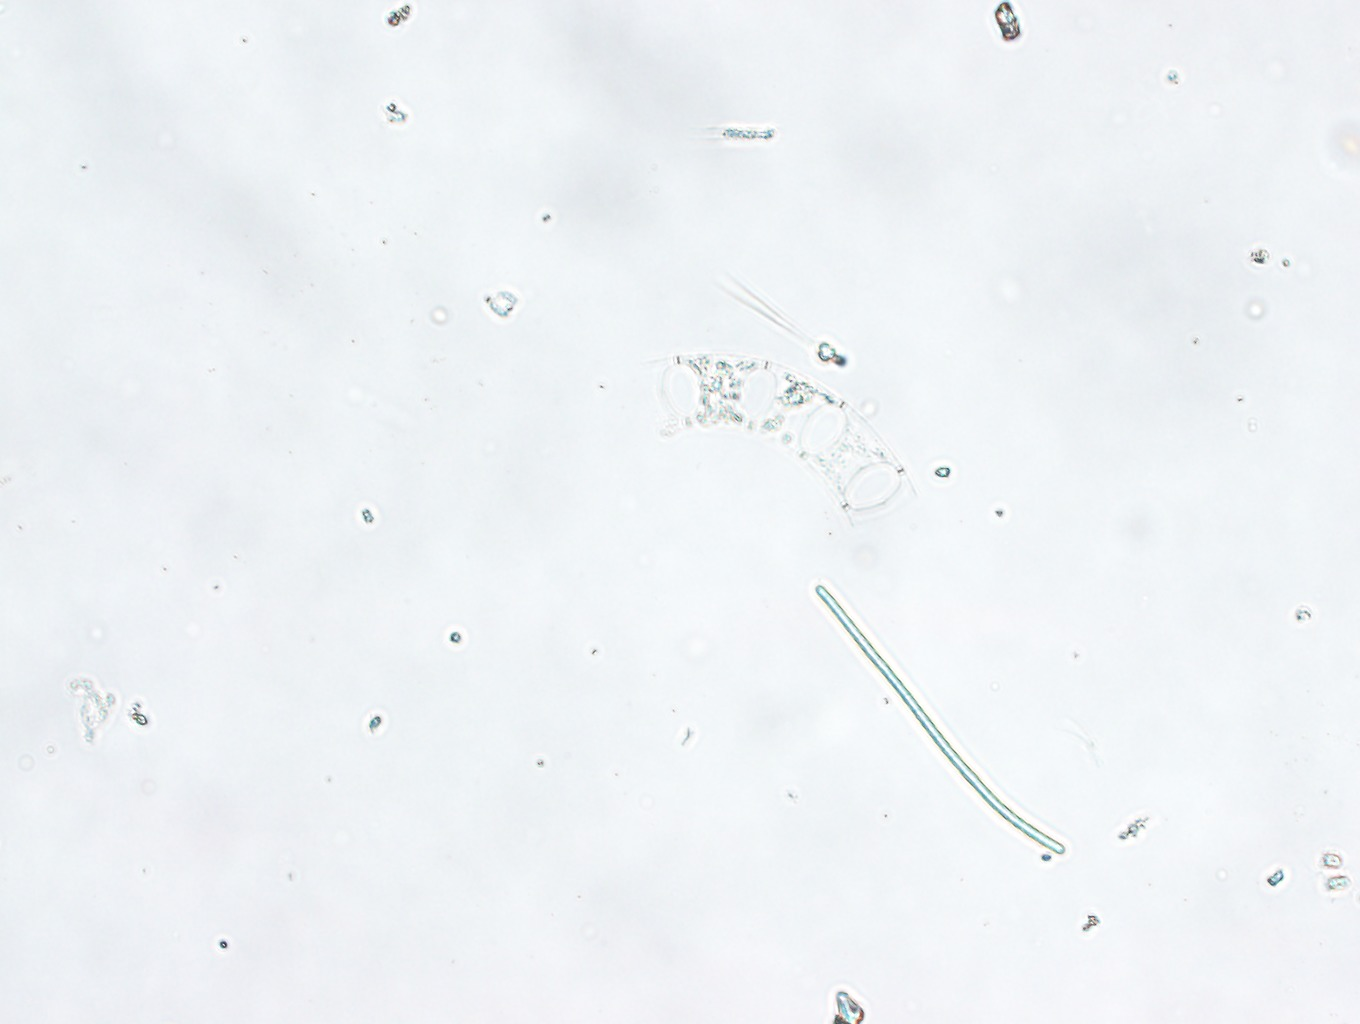eucampia: (644, 353, 920, 534)
